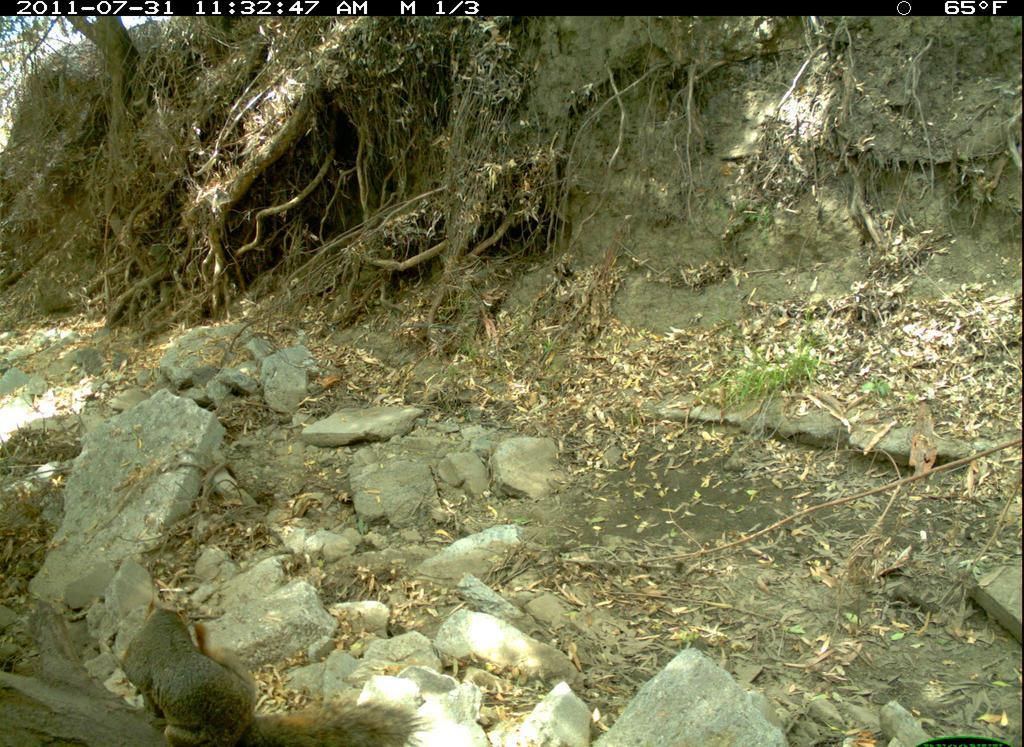squirrel: (118, 596, 425, 747)
